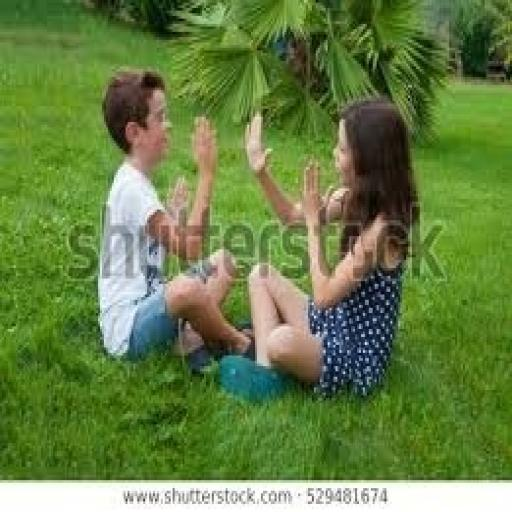clapping: (218, 96, 420, 403), (94, 66, 251, 374)
